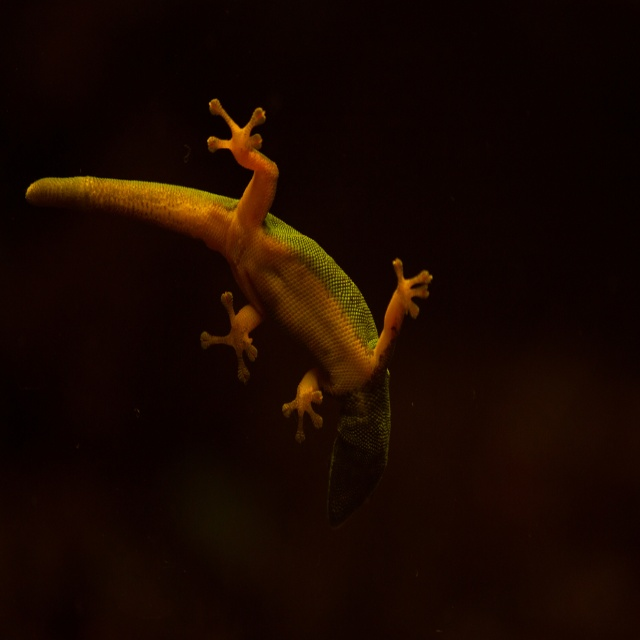Lizard: (51, 97, 422, 498)
